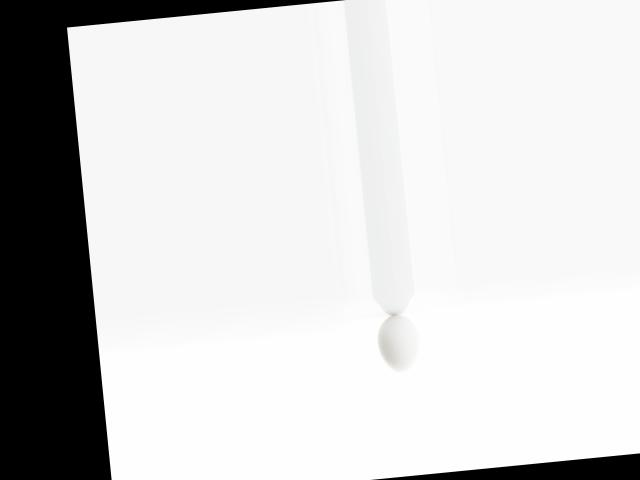egg: (375, 312, 421, 373)
